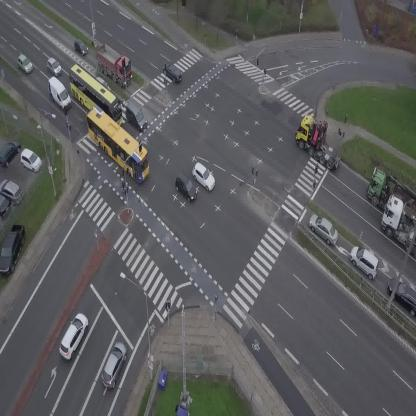bicycle: (120, 180, 127, 194)
bus: (77, 104, 159, 184), (57, 62, 132, 132)
car: (54, 310, 93, 361), (98, 340, 131, 390), (344, 242, 385, 281), (304, 210, 344, 248), (119, 101, 151, 132), (188, 162, 220, 192), (171, 173, 202, 203), (160, 60, 186, 85), (13, 53, 35, 76), (69, 37, 91, 59), (43, 55, 65, 77), (96, 76, 109, 86)
lorry: (287, 109, 357, 173), (87, 39, 141, 89), (42, 74, 75, 113)
